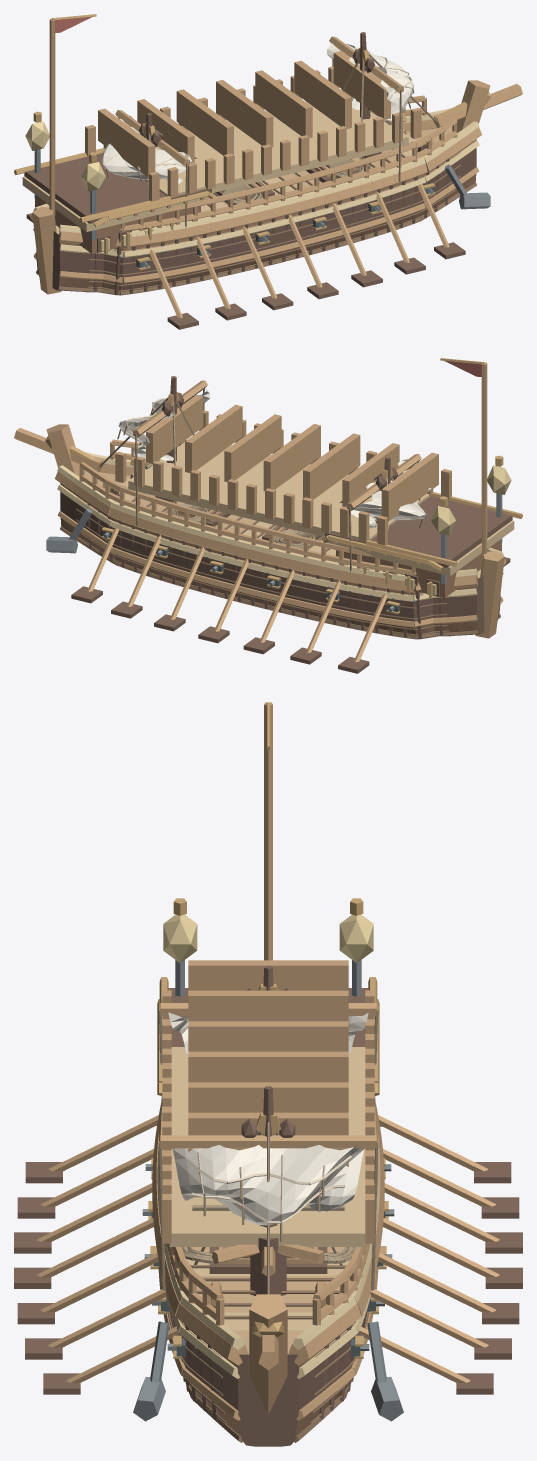
The model's file is panokseon-v5-mobile.glb.
3 renders of one model, top to bottom at view 1: azimuth 30°, elevation 25°; view 2: azimuth 150°, elevation 25°; view 3: azimuth 270°, elevation 25°, orthographic. The views are drawn at different scales.
Parts seen in each view (by area): view 1: panokseon_ornament_wood, panokseon_hull_wood, panokseon_hull_darkwood, panokseon_deck_decklight, panokseon_deck_wood, panokseon_hull_pale, panokseon_railings_wood, panokseon_hull_seam, panokseon_deck_darkwood, panokseon_hull_hull, panokseon_oars_wood, panokseon_sails_ivory (+14 smaller); view 2: panokseon_ornament_wood, panokseon_hull_wood, panokseon_hull_darkwood, panokseon_deck_decklight, panokseon_deck_wood, panokseon_hull_pale, panokseon_railings_wood, panokseon_deck_darkwood, panokseon_hull_seam, panokseon_hull_hull, panokseon_oars_wood, panokseon_oars_darkwood (+15 smaller); view 3: panokseon_ornament_wood, panokseon_oars_wood, panokseon_sails_ivory, panokseon_oars_darkwood, panokseon_deck_decklight, panokseon_hull_wood, panokseon_hull_darkwood, panokseon_deck_wood, panokseon_hull_pale, panokseon_fittings_iron, panokseon_railings_wood, panokseon_rigging_wood (+15 smaller).
Boxes of the visible parts, x1,y1,x2,y2 form: panokseon_ornament_wood: (98, 51, 390, 177); panokseon_hull_wood: (30, 80, 522, 294); panokseon_hull_darkwood: (36, 148, 476, 295); panokseon_deck_decklight: (22, 98, 408, 231); panokseon_deck_wood: (85, 66, 421, 224); panokseon_hull_pale: (33, 108, 479, 257); panokseon_railings_wood: (120, 95, 457, 231); panokseon_hull_seam: (36, 143, 476, 295); panokseon_deck_darkwood: (24, 153, 211, 252); panokseon_hull_hull: (58, 139, 476, 292); panokseon_oars_wood: (149, 183, 449, 318); panokseon_sails_ivory: (101, 43, 413, 184); panokseon_ornament_wood: (146, 395, 438, 521); panokseon_hull_wood: (14, 424, 506, 638); panokseon_hull_darkwood: (60, 492, 500, 639); panokseon_deck_decklight: (128, 442, 514, 575); panokseon_deck_wood: (115, 410, 451, 568); panokseon_hull_pale: (57, 452, 503, 601); panokseon_railings_wood: (79, 439, 416, 575); panokseon_deck_darkwood: (325, 495, 512, 596); panokseon_hull_seam: (60, 487, 500, 639); panokseon_hull_hull: (60, 483, 478, 636); panokseon_oars_wood: (87, 527, 387, 662); panokseon_oars_darkwood: (71, 557, 510, 673); panokseon_ornament_wood: (188, 960, 348, 1197); panokseon_oars_wood: (37, 1115, 499, 1382); panokseon_sails_ivory: (168, 1012, 368, 1225); panokseon_oars_darkwood: (14, 1162, 522, 1394); panokseon_deck_decklight: (169, 1047, 367, 1246); panokseon_hull_wood: (152, 1106, 384, 1420); panokseon_hull_darkwood: (169, 1311, 367, 1446); panokseon_deck_wood: (162, 990, 374, 1243); panokseon_hull_pale: (157, 1147, 379, 1378); panokseon_fittings_iron: (133, 960, 403, 1421); panokseon_railings_wood: (158, 1096, 378, 1325); panokseon_rigging_wood: (160, 1003, 376, 1148).
Size of the model in its own units: 46.65 by 25.16 by 26.64.
